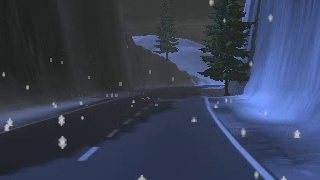Lane: (0, 86, 272, 179)
